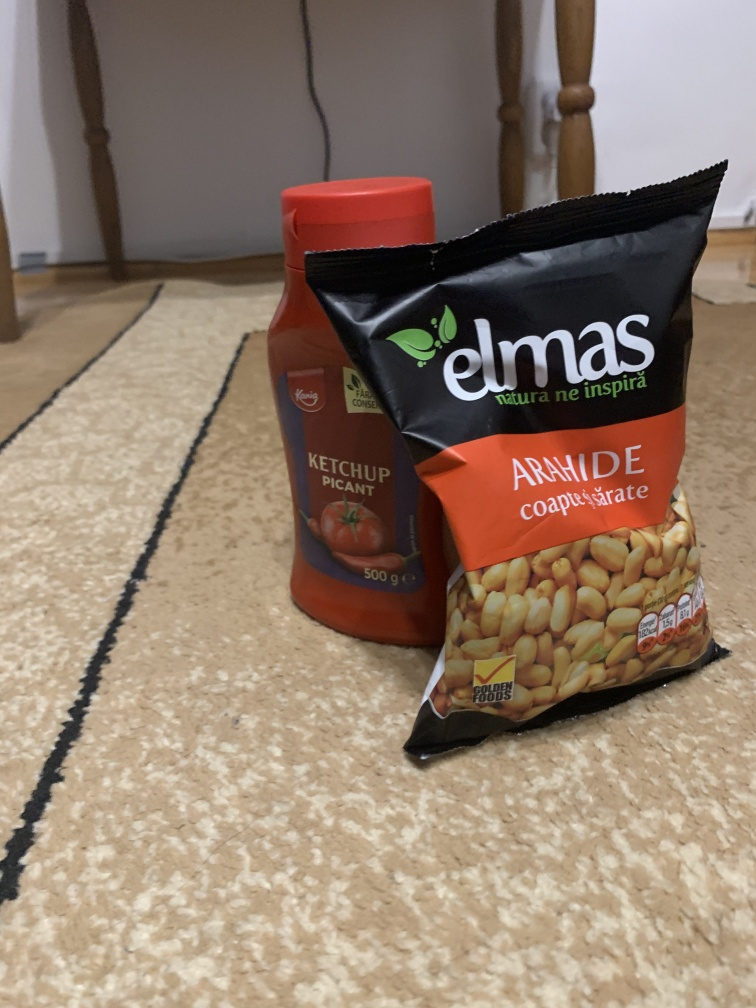ketchup: (262, 174, 440, 661)
peanuts: (394, 157, 741, 776)
